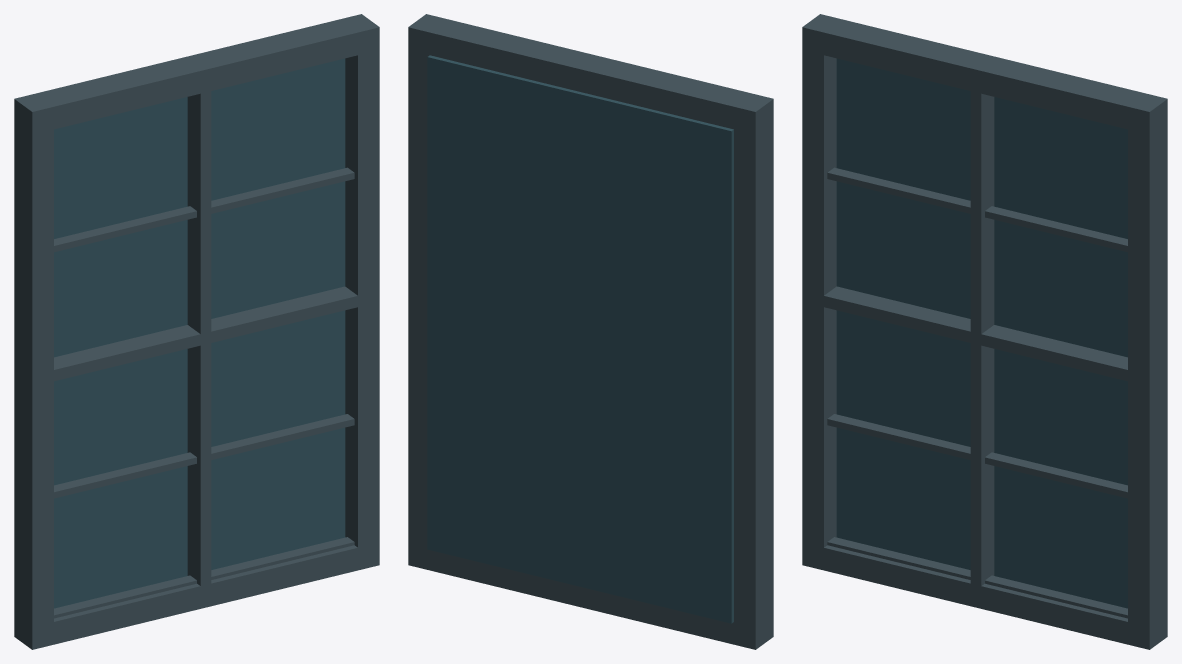
Rendered from window_24.glb.
3 renders of one model, left to right at view 1: azimuth 30°, elevation 25°; view 2: azimuth 150°, elevation 25°; view 3: azimuth 330°, elevation 25°, orthographic.
Parts seen in each view (by area): view 1: window_24; view 2: window_24; view 3: window_24.
Part boxes in pixels (<box>): window_24: <box>14,14,379,649</box>; window_24: <box>408,14,773,649</box>; window_24: <box>802,14,1167,649</box>.
Bounding box in the file's own units: 1.44 × 2.13 × 0.1475.
